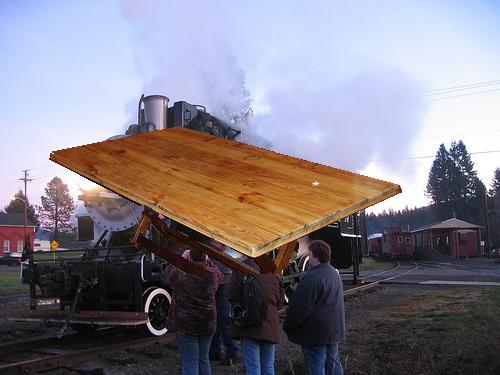tampered: (50, 127, 402, 274)
